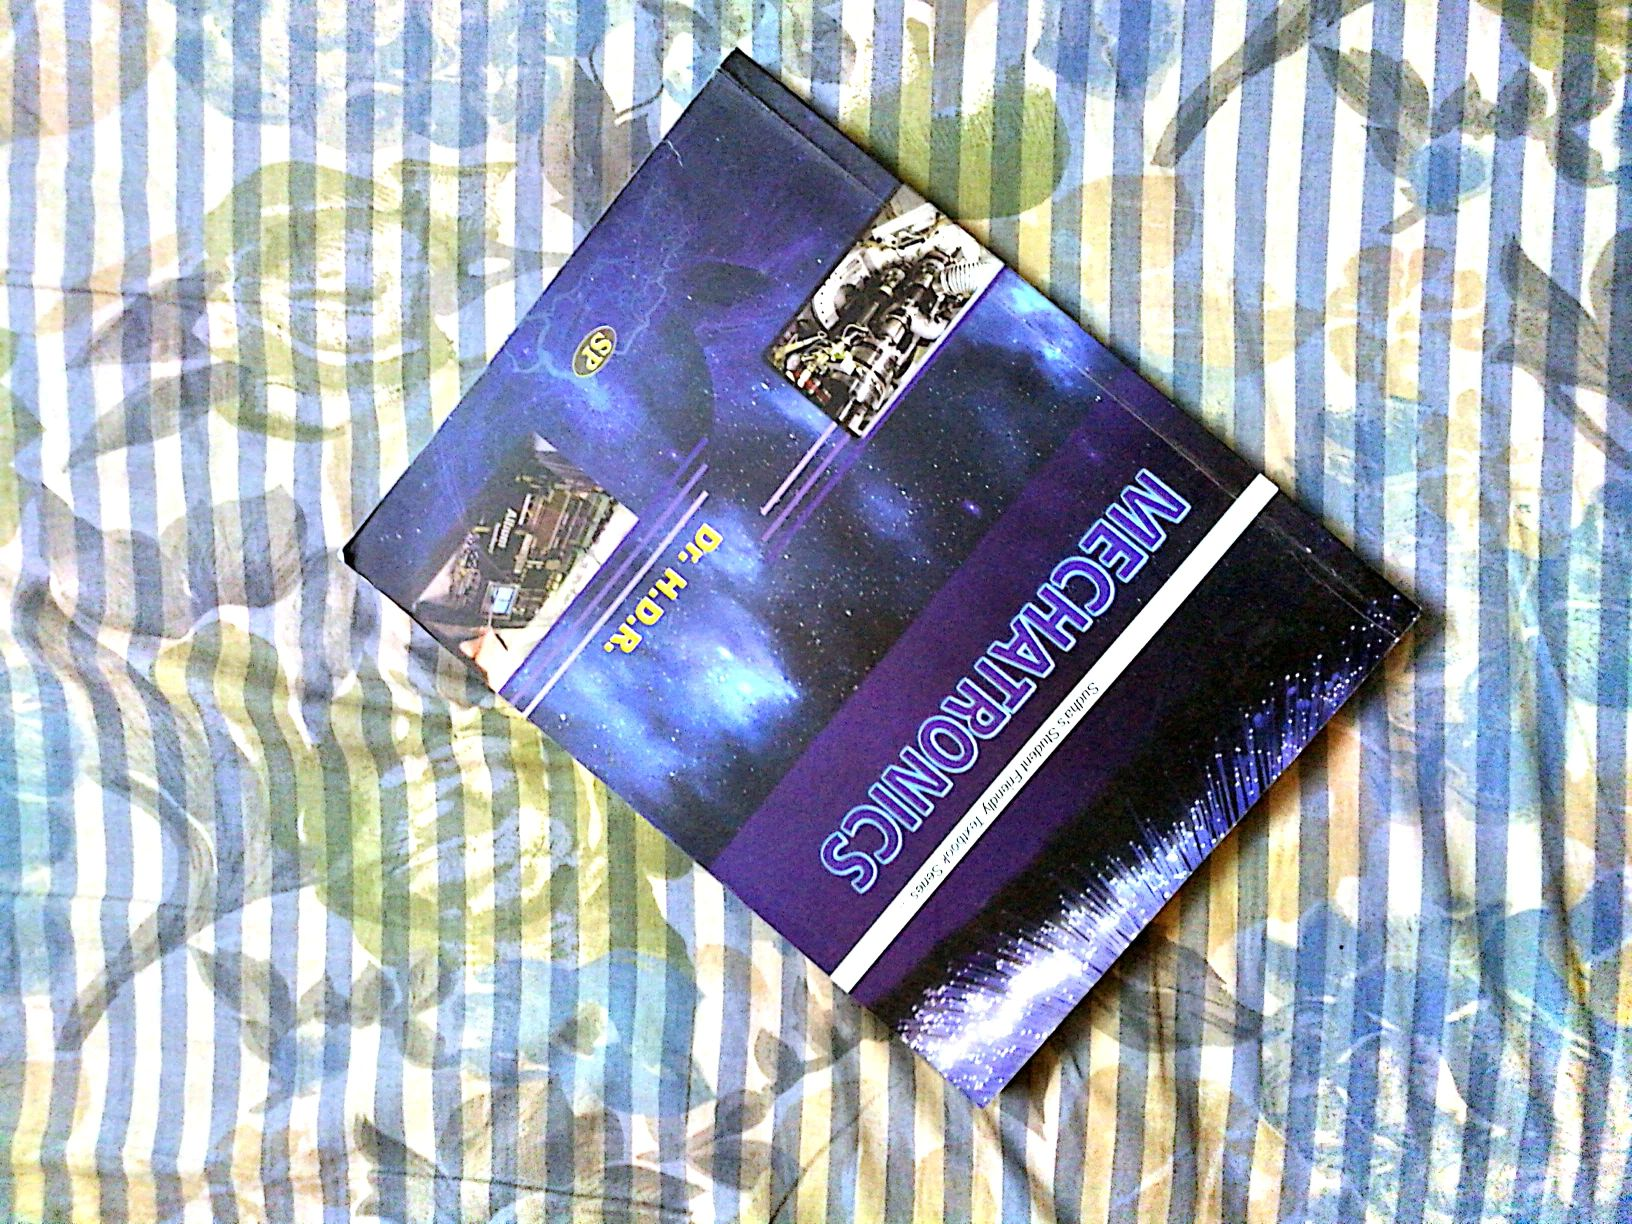mechatronics: (368, 111, 1408, 966)
